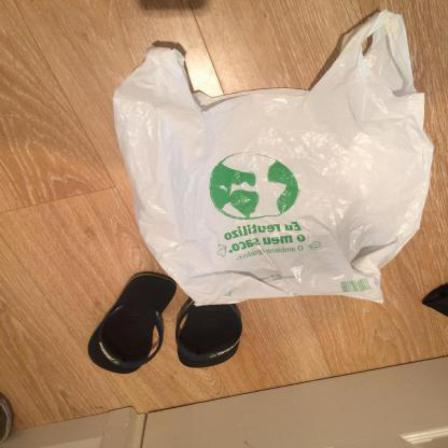Other litter: (89, 274, 178, 375), (177, 298, 244, 369)
Plastic bag - wrapper: (115, 11, 435, 307)
